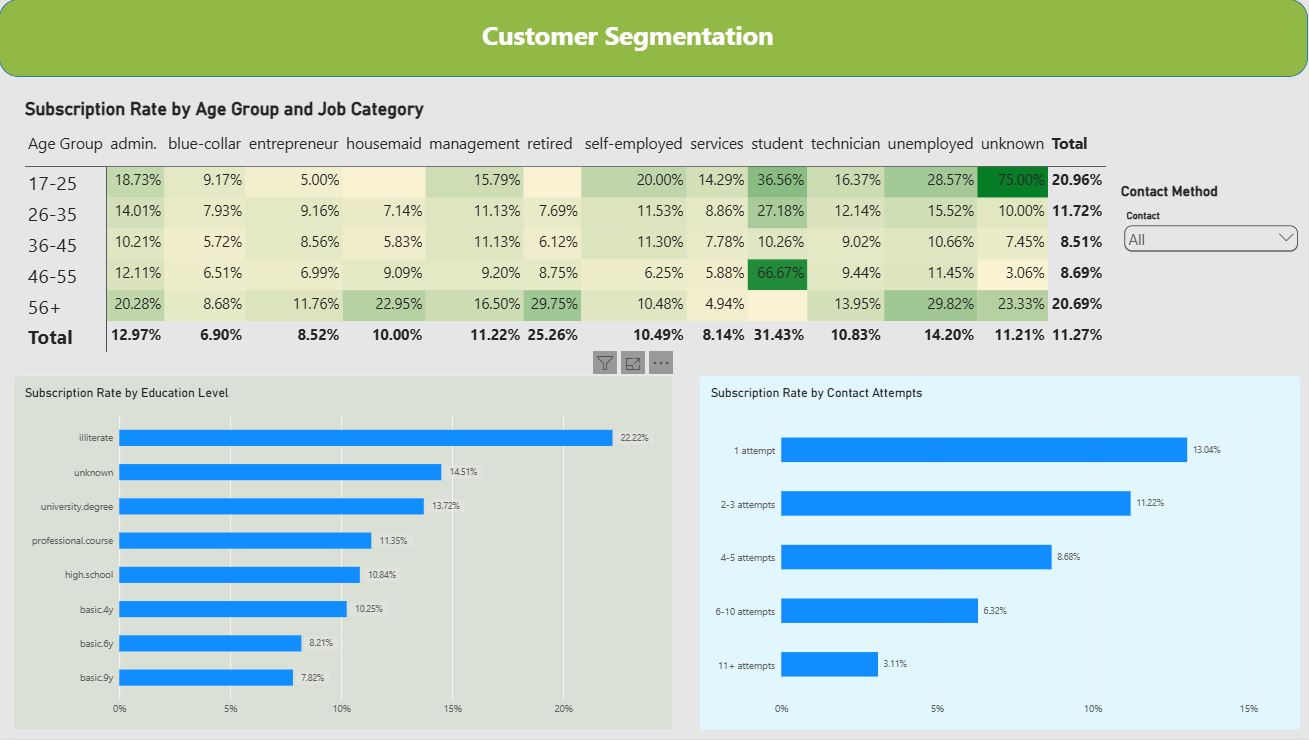

The dashboard page shown, as its layout file describes it:
{"tool":"powerbi","page":{"name":"Customer Segmentation","canvas":[1920,1080],"ordinal":1},"visuals":[{"type":"shape","box":[0,0,1909.8,113.8],"z":0},{"type":"pivotTable","title":"Subscription Rate by Age Group and Job Category","fields":{"Columns":["bank_marketing.job"],"Rows":["bank_marketing.Age Group"],"Values":["bank_marketing.Subscription Rate"]},"box":[20.4,129.8,1626.7,410],"z":1000},{"type":"textbox","box":[704.7,27.7,466.9,68.6],"z":2000},{"type":"clusteredBarChart","title":"Subscription Rate by Education Level","fields":{"Category":["bank_marketing.education"],"Y":["bank_marketing.Subscription Rate"]},"box":[20.9,549.3,963.2,518.7],"z":3000},{"type":"clusteredBarChart","title":"Subscription Rate by Contact Attempts","fields":{"Category":["bank_marketing.Campaign Attempts Group"],"Y":["bank_marketing.Subscription Rate"]},"box":[1021.2,549.3,877.9,518.7],"z":4000},{"type":"slicer","title":"Contact Method","fields":{"Values":["bank_marketing.contact"]},"box":[1636.5,269,262.6,104.7],"z":5000}]}

Visuals, with their boxes in screenshot pixels (x1, y1, x2, y2), scaled from the page's 1920x1080 canvas onto the 1309x740 screenshot:
shape: (x1=0, y1=0, x2=1302, y2=78)
"Subscription Rate by Age Group and Job Category" pivotTable: (x1=14, y1=89, x2=1123, y2=370)
textbox: (x1=480, y1=19, x2=799, y2=66)
"Subscription Rate by Education Level" clusteredBarChart: (x1=14, y1=376, x2=671, y2=732)
"Subscription Rate by Contact Attempts" clusteredBarChart: (x1=696, y1=376, x2=1295, y2=732)
"Contact Method" slicer: (x1=1116, y1=184, x2=1295, y2=256)
